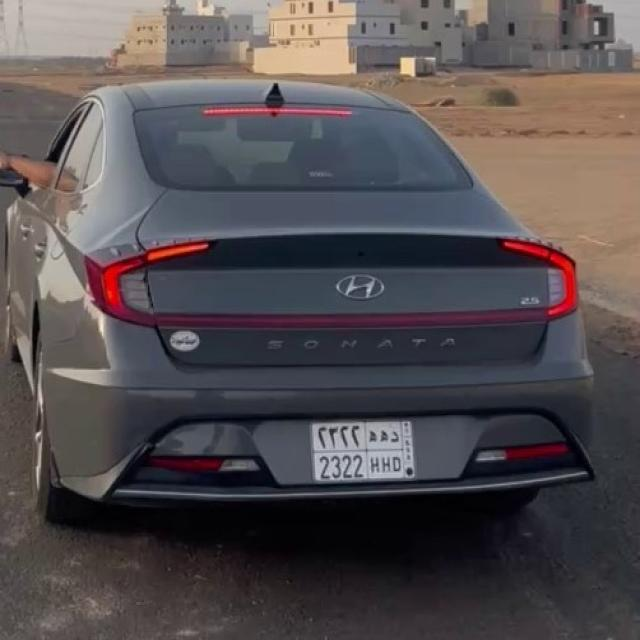Car-plate: (315, 423, 425, 478)
